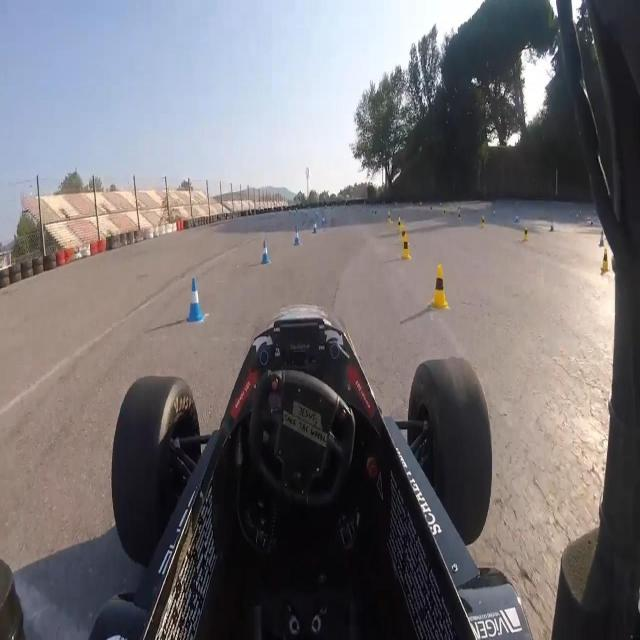blue_cone: (185, 278, 206, 324), (259, 239, 270, 267), (293, 228, 301, 248), (312, 220, 318, 237), (599, 230, 605, 247), (550, 218, 555, 232)
yellow_cone: (429, 264, 448, 311), (402, 234, 413, 260), (602, 246, 610, 271), (396, 216, 403, 231), (401, 226, 406, 243), (523, 228, 529, 241), (482, 215, 486, 228), (387, 212, 391, 223)
